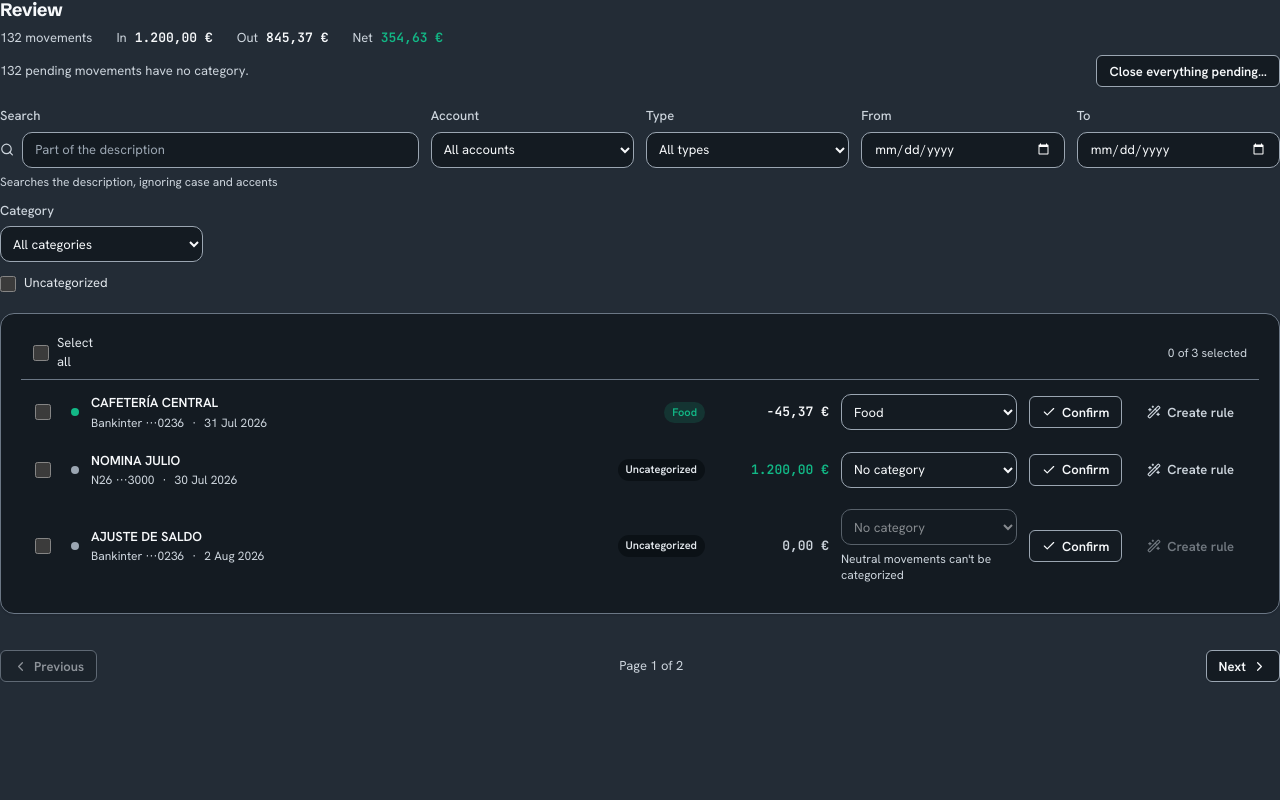
ReviewView › creating a rule from a row (feature 17, R1, R5, R10) › opens the dialog with the movement and the proposed text (R1, R2)
Click the button with test id "movement-create-rule". click: (1191, 412)
box: [1134,396,1247,428]
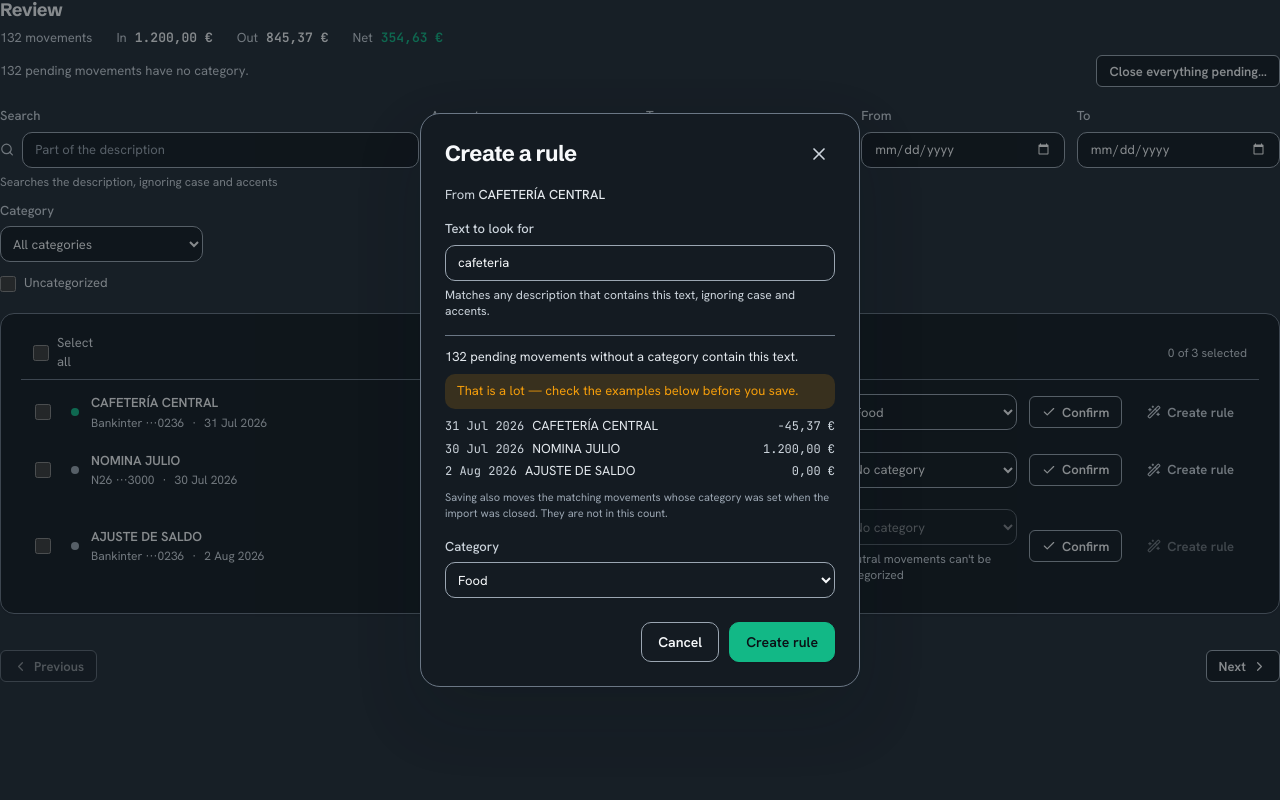
Now the dialog shows "Create a rule", box [445,140,577,167]
Now the dialog shows "CAFETERÍA CENTRAL", box [478,186,605,203]
Now the field labelled "Text to look for" holds "cafeteria", box [445,245,835,281]
